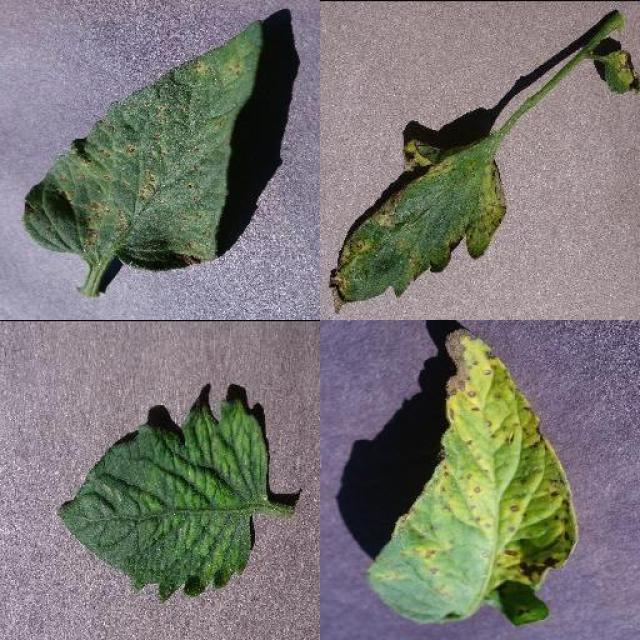Septoria: (367, 328, 578, 624), (21, 18, 262, 272), (328, 128, 508, 312)
